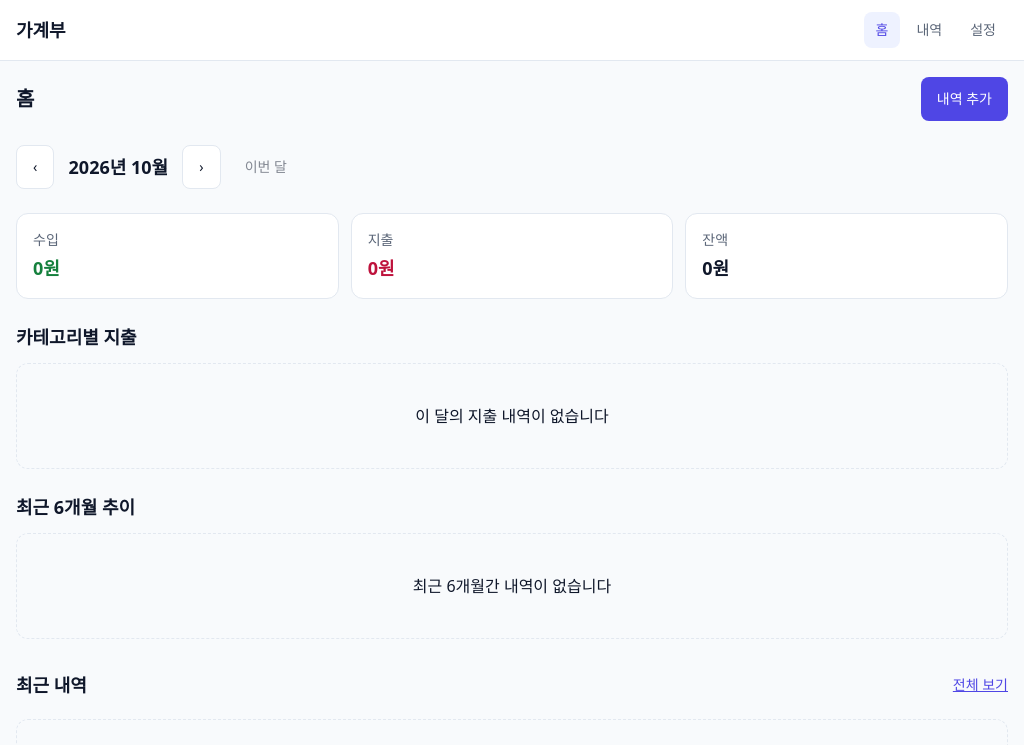
Test: App › 메뉴로 설정 화면에 이동할 수 있다
expect the heading "홈" is shown: met, box [16,85,34,113]
Click the link "설정": (983, 30) [970,20,996,39]
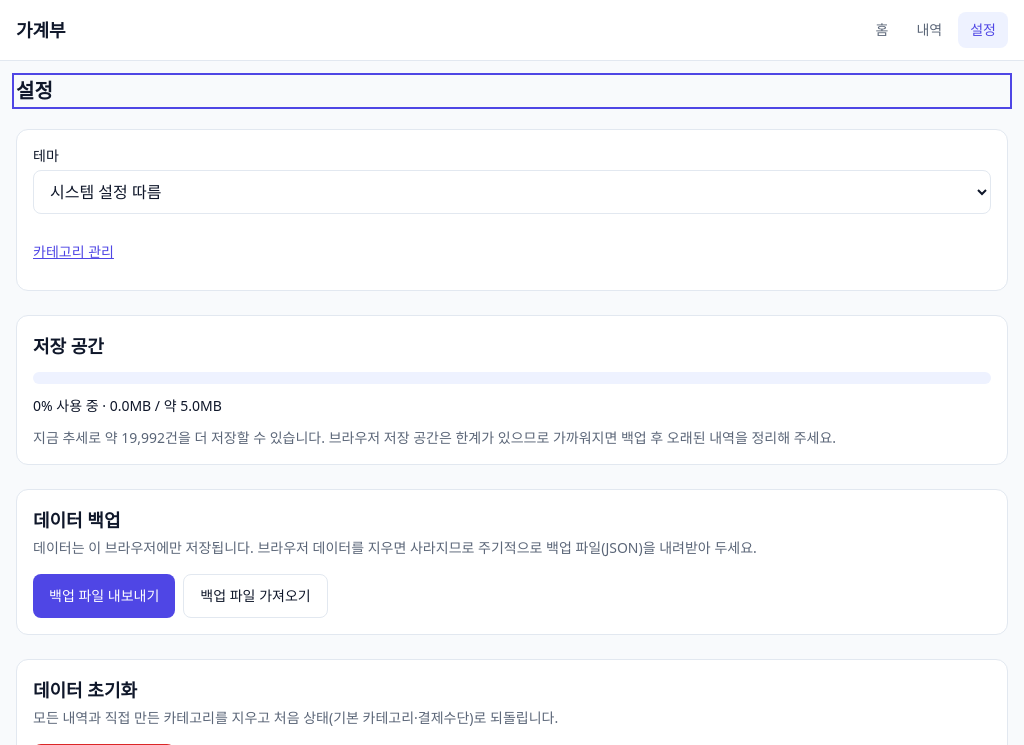
expect the heading "설정" is shown: met, box [16,77,53,104]
